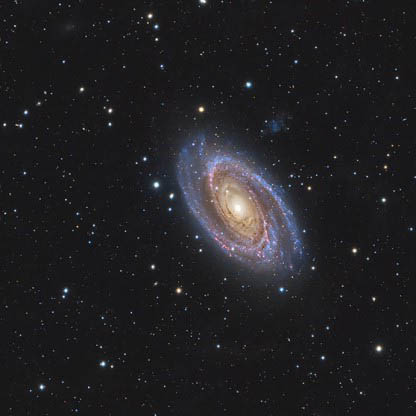Messier 81: (148, 122, 318, 303)
